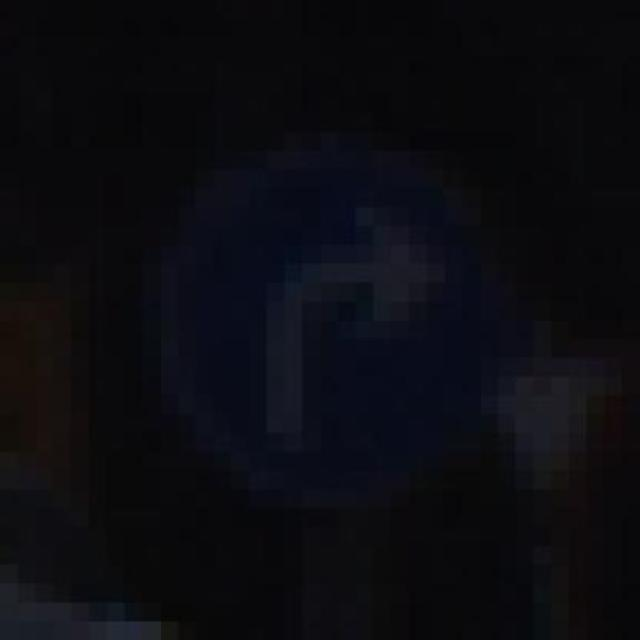Turn right ahead: (110, 120, 555, 515)
